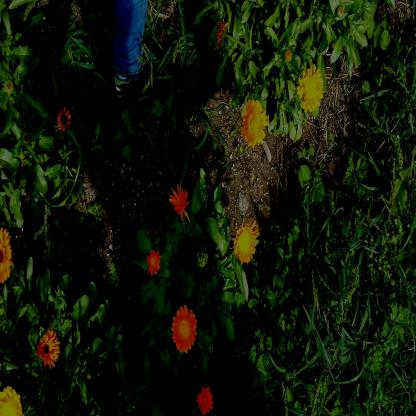marigold: (243, 96, 266, 146), (172, 308, 196, 351), (300, 68, 320, 110), (235, 226, 255, 262)
